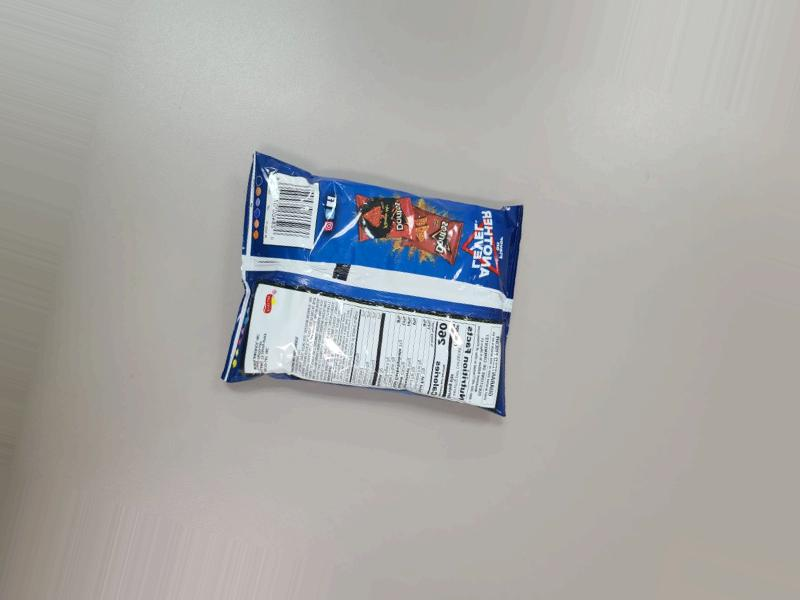doritos: (262, 155, 538, 451)
